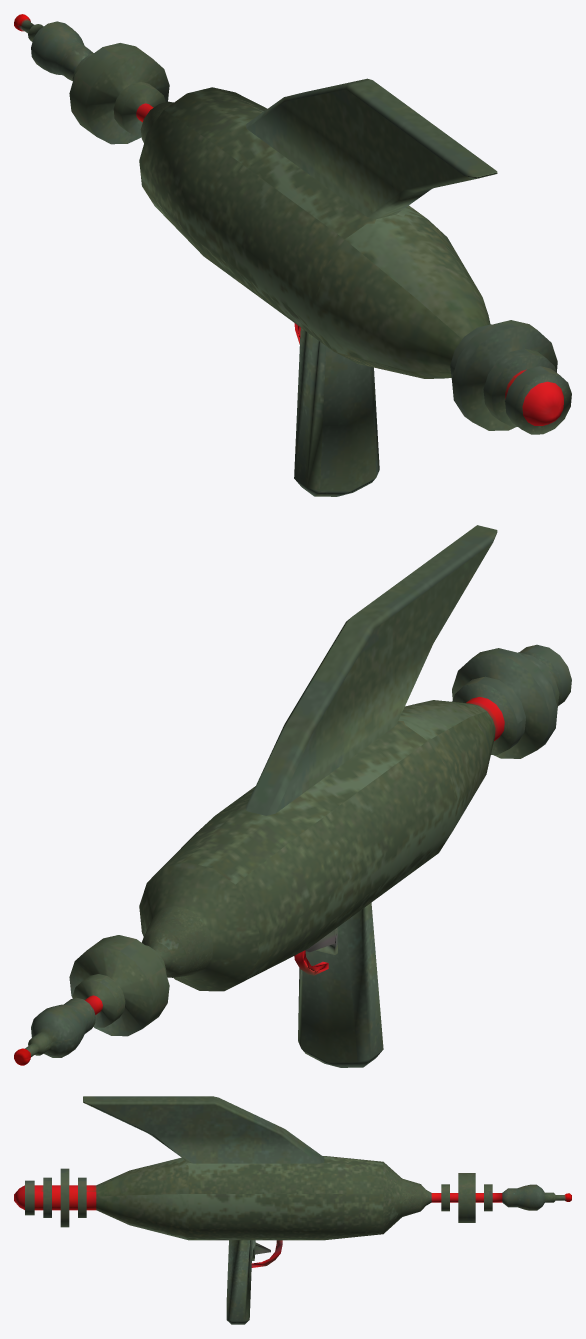
The model's file is vintageplasmapistol.obj.
3 renders of one model, top to bottom at view 1: azimuth 30°, elevation 25°; view 2: azimuth 150°, elevation 25°; view 3: azimuth 270°, elevation 25°, orthographic. The views are drawn at different scales.
Parts seen in each view (by area): view 1: Handle1; view 2: Handle1; view 3: Handle1.
Boxes of the visible parts, x1,y1,x2,y2 form: Handle1: (14,14,571,496); Handle1: (14,525,571,1067); Handle1: (14,1096,571,1324).
Size of the model in its own units: 0.366 by 1.06 by 2.41.
1 material, 1 textured.
